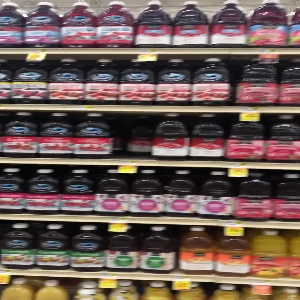void: (112, 105, 153, 158)
